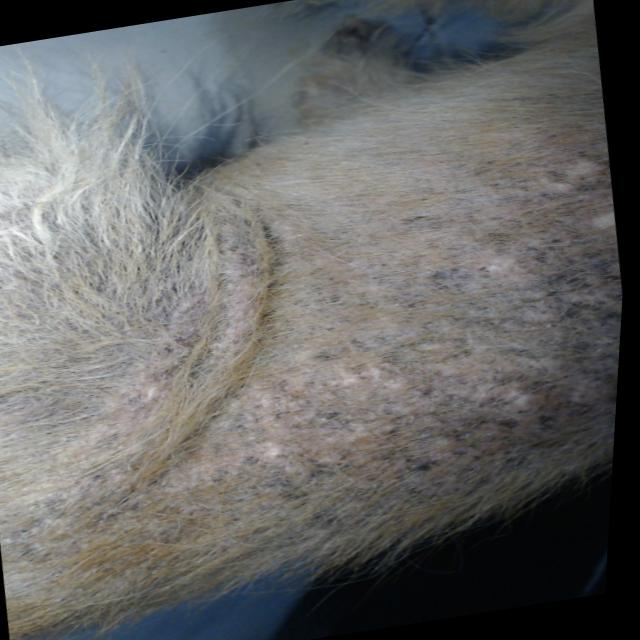demodicosis: (346, 254, 611, 526), (122, 251, 328, 519)
